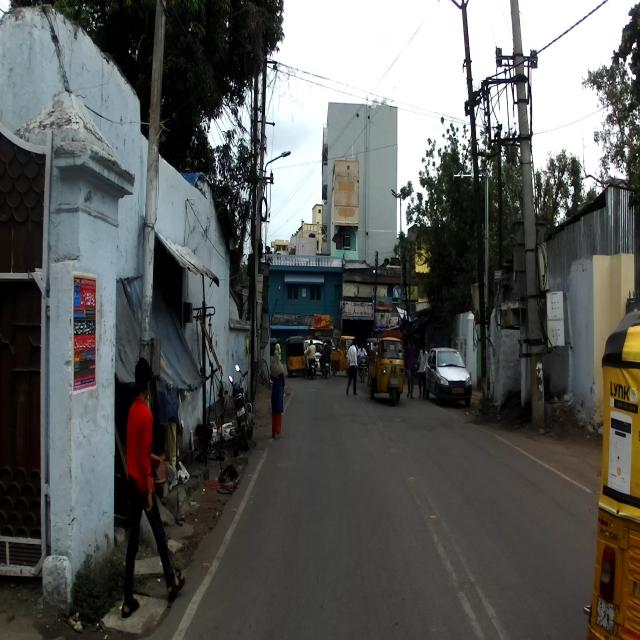Car_TATA: (424, 346, 474, 407)
autorickshaw: (582, 310, 640, 639), (369, 328, 406, 406)
motorcycle_Hero: (228, 364, 254, 450)
